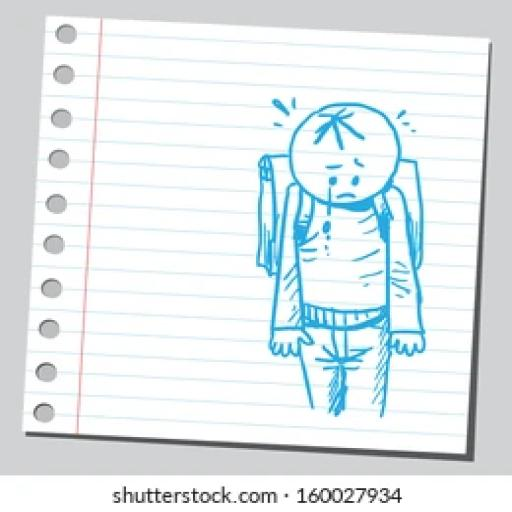person: (245, 86, 443, 437)
